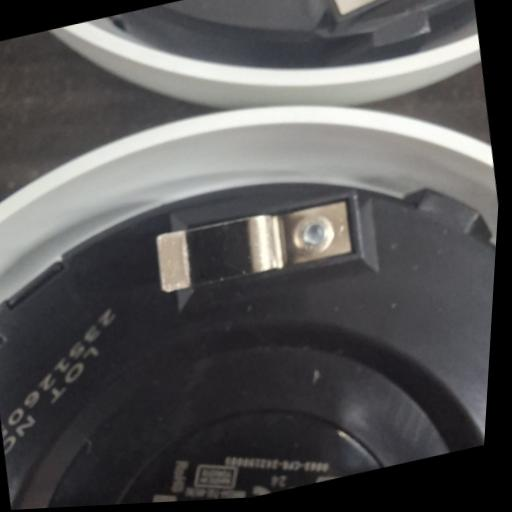yaysiz: (133, 186, 364, 310)
